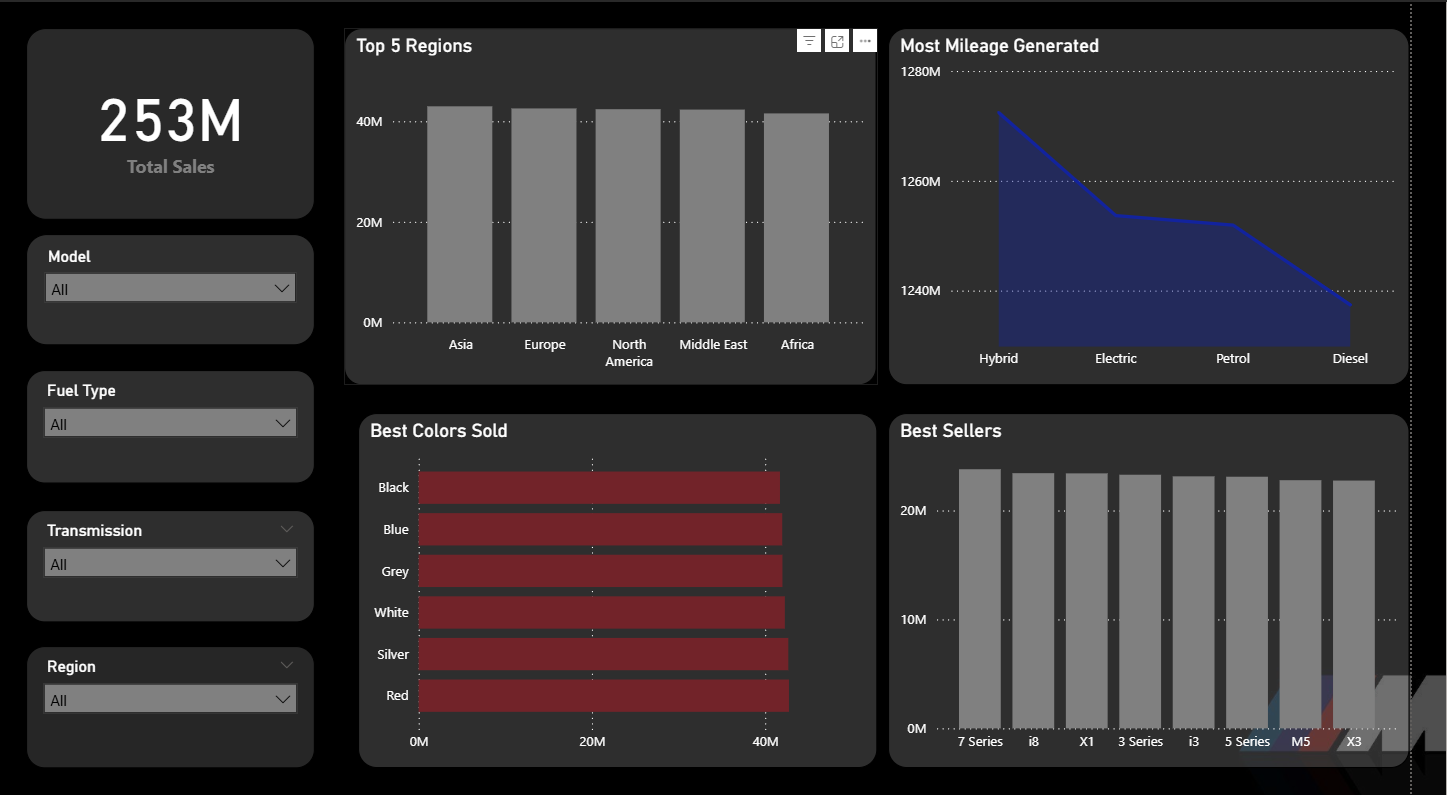

The page's visual inventory and layout, read from the dashboard file:
{"tool":"powerbi","page":{"name":"Page 1","canvas":[1280,720],"ordinal":0},"visuals":[{"type":"card","fields":{"Values":["Sum(BMW sales data (2010-2024).Sales_Volume)"]},"box":[25.4,23.6,262.1,174.1],"z":0},{"type":"slicer","fields":{"Values":["BMW sales data (2010-2024).Model"]},"box":[25.3,210.1,261.6,101.2],"z":1000},{"type":"columnChart","title":"Top 5 Regions","fields":{"Y":["Sum(BMW sales data (2010-2024).Sales_Volume)"],"Category":["BMW sales data (2010-2024).Region"]},"box":[314.2,23.3,483.4,323.9],"z":2000},{"type":"slicer","fields":{"Values":["BMW sales data (2010-2024).Fuel_Type"]},"box":[25.3,333.6,261.6,103.1],"z":3000},{"type":"slicer","fields":{"Values":["BMW sales data (2010-2024).Transmission"]},"box":[25.3,461,261.6,102.1],"z":3001},{"type":"columnChart","title":"Best Sellers","fields":{"Category":["BMW sales data (2010-2024).Model"],"Y":["Sum(BMW sales data (2010-2024).Sales_Volume)"]},"box":[807.3,372.5,472.7,321.9],"z":3003},{"type":"lineChart","title":"Most Mileage Generated","fields":{"Category":["BMW sales data (2010-2024).Fuel_Type"],"Y":["Sum(BMW sales data (2010-2024).Mileage_KM)"]},"box":[807.3,23.3,472.7,323.9],"z":3004},{"type":"clusteredBarChart","title":"Best Colors Sold","fields":{"Category":["BMW sales data (2010-2024).Color"],"Y":["Sum(BMW sales data (2010-2024).Sales_Volume)"]},"box":[326.8,372.5,470.8,321.9],"z":3005},{"type":"slicer","fields":{"Values":["BMW sales data (2010-2024).Region"]},"box":[25.3,583.6,261.6,110.9],"z":3006}]}

Visuals, with their boxes in screenshot pixels (x1, y1, x2, y2), scaled from the page's 1280x720 canvas onto the 1447x795 screenshot:
card - Sum(BMW sales data (2010-2024).Sales_Volume): x1=29, y1=26, x2=325, y2=218
slicer - BMW sales data (2010-2024).Model: x1=29, y1=232, x2=324, y2=344
"Top 5 Regions" columnChart: x1=355, y1=26, x2=902, y2=383
slicer - BMW sales data (2010-2024).Fuel_Type: x1=29, y1=368, x2=324, y2=482
slicer - BMW sales data (2010-2024).Transmission: x1=29, y1=509, x2=324, y2=622
"Best Sellers" columnChart: x1=913, y1=411, x2=1446, y2=767
"Most Mileage Generated" lineChart: x1=913, y1=26, x2=1446, y2=383
"Best Colors Sold" clusteredBarChart: x1=369, y1=411, x2=902, y2=767
slicer - BMW sales data (2010-2024).Region: x1=29, y1=644, x2=324, y2=767
